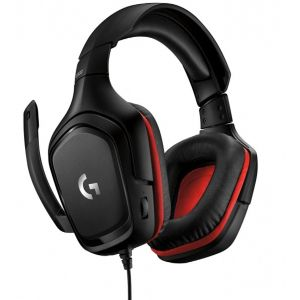headset: (14, 1, 260, 270)
